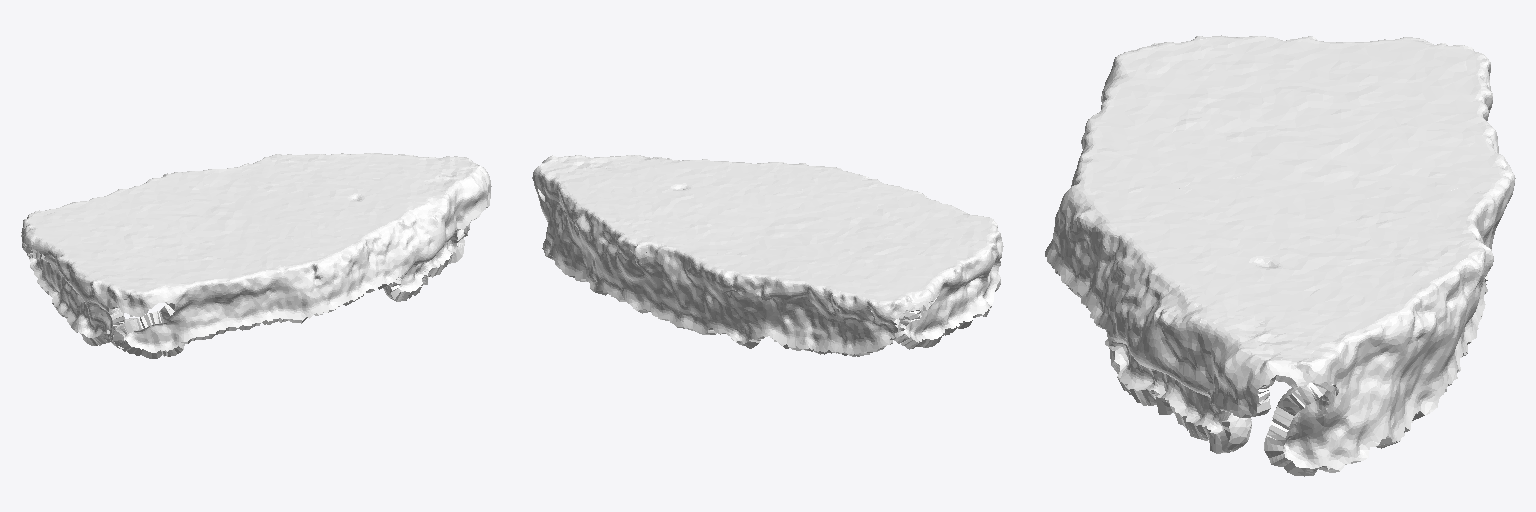
The robot description file, URDF, robot "frag7_top_calib_scaled":
<?xml version="1.0"?>
<robot name="frag7_top_calib_scaled">
  <material name="Blanc">
    <color rgba="1.0 1.0 1.0 1.0"/>
  </material>
  <link name="base_link">
    <visual>
      <origin xyz="0 0 0" rpy="0 0 0"/>
      <geometry>
        <mesh filename="frag7_small.stl"/>
      </geometry>
      <material name="Blanc"/>
    </visual>
    <collision>
      <origin xyz="0 0 0" rpy="0 0 0"/>
      <geometry>
	 	     <mesh filename="frag7_small.stl"/>
      </geometry>
    </collision>
    <contact>
      <lateral_friction value="2.0"/>
      <rolling_friction value="0.0001"/>
      <inertia_scaling value="3.0"/>
    </contact>
    <inertial>
      <origin rpy="0 0 0" xyz="0 0 0"/>
       <mass value="0.05"/>
       <inertia ixx="1" ixy="0" ixz="0" iyy="1" iyz="0" izz="1"/>
    </inertial>
  </link>

</robot>

--- What the picture shows (computed from the rendered views, not written in the file) ---
3 views of the same robot in one strip: view 1: azimuth 30°, elevation 25°; view 2: azimuth 150°, elevation 25°; view 3: azimuth 270°, elevation 25° (orthographic).
Model frag7_top_calib_scaled with 1 links and 0 joints (none), rooted at base_link, posed every joint at zero.
Visible links, largest first — view 1: base_link; view 2: base_link; view 3: base_link.
Link boxes in pixels (x1,y1,x2,y2): base_link: (21, 153, 491, 358); base_link: (532, 155, 1003, 356); base_link: (1045, 35, 1515, 476).
Bounding box of the posed robot: 0.1225 × 0.0713 × 0.0223 m (x, y, z).
1 mesh visuals loaded from 1 distinct referenced files (1 binary STL).
